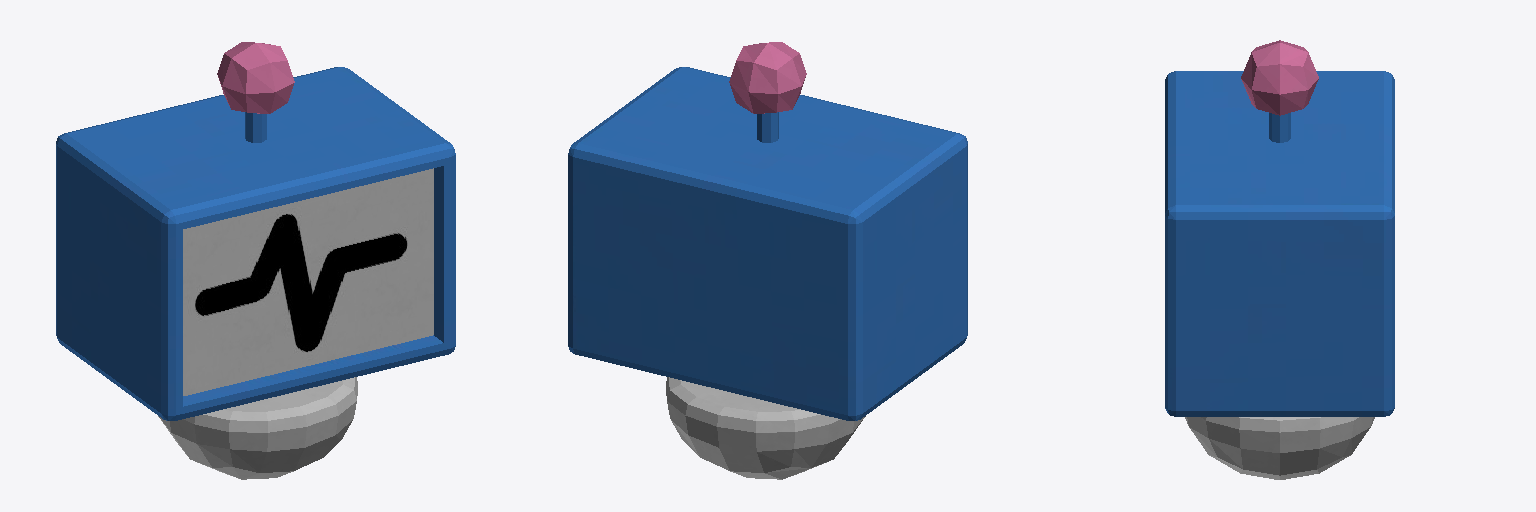
3 views of the same model, side by side, from view 1: azimuth 30°, elevation 25°; view 2: azimuth 150°, elevation 25°; view 3: azimuth 270°, elevation 25° (orthographic).
Visible parts, largest first — view 1: computer_Cube.008; view 2: computer_Cube.008; view 3: computer_Cube.008.
Part boxes in pixels (left/top/right/bottom): computer_Cube.008: left=56, top=42, right=455, bottom=479; computer_Cube.008: left=568, top=42, right=967, bottom=479; computer_Cube.008: left=1165, top=40, right=1394, bottom=479.
Bounding box in the file's own units: 4.68 × 6.5 × 3.18.
1 materials, 1 textured.